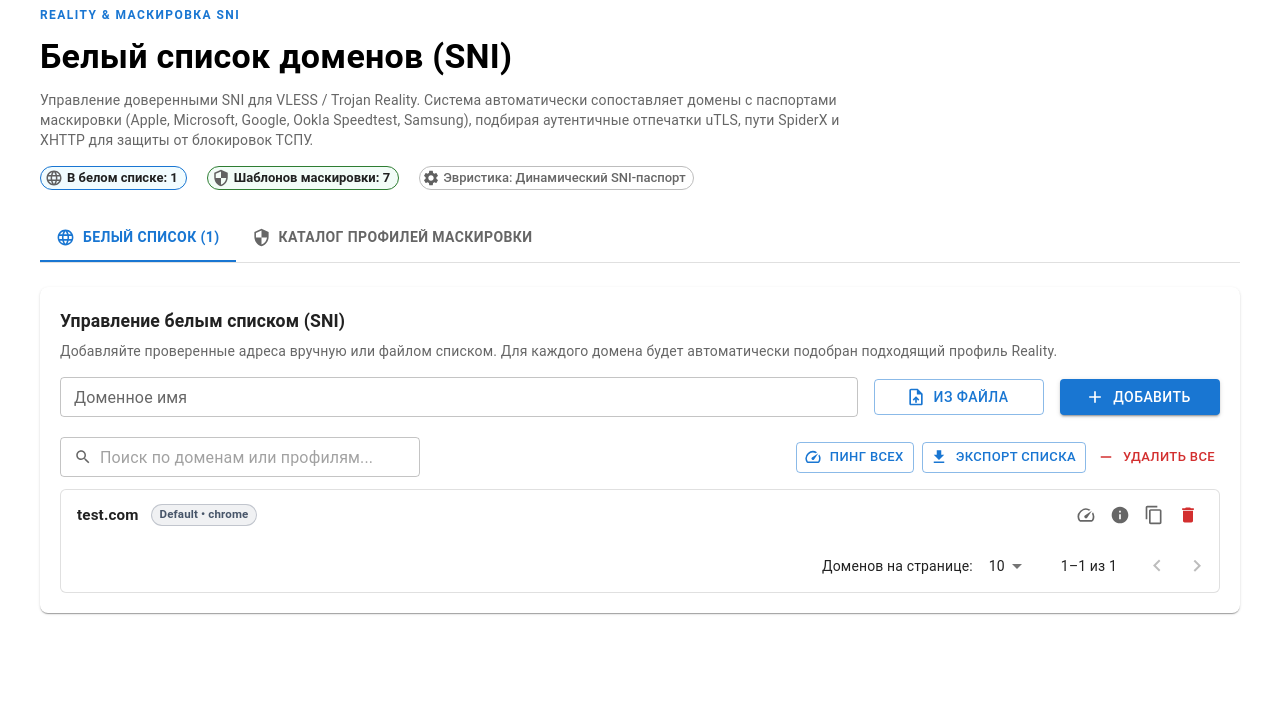
Test: DomainsPage › Удаление всех доменов › должен открывать диалог подтверждения удаления всех
Click the button "Удалить все": [1157, 457] box [1094,442,1220,473]
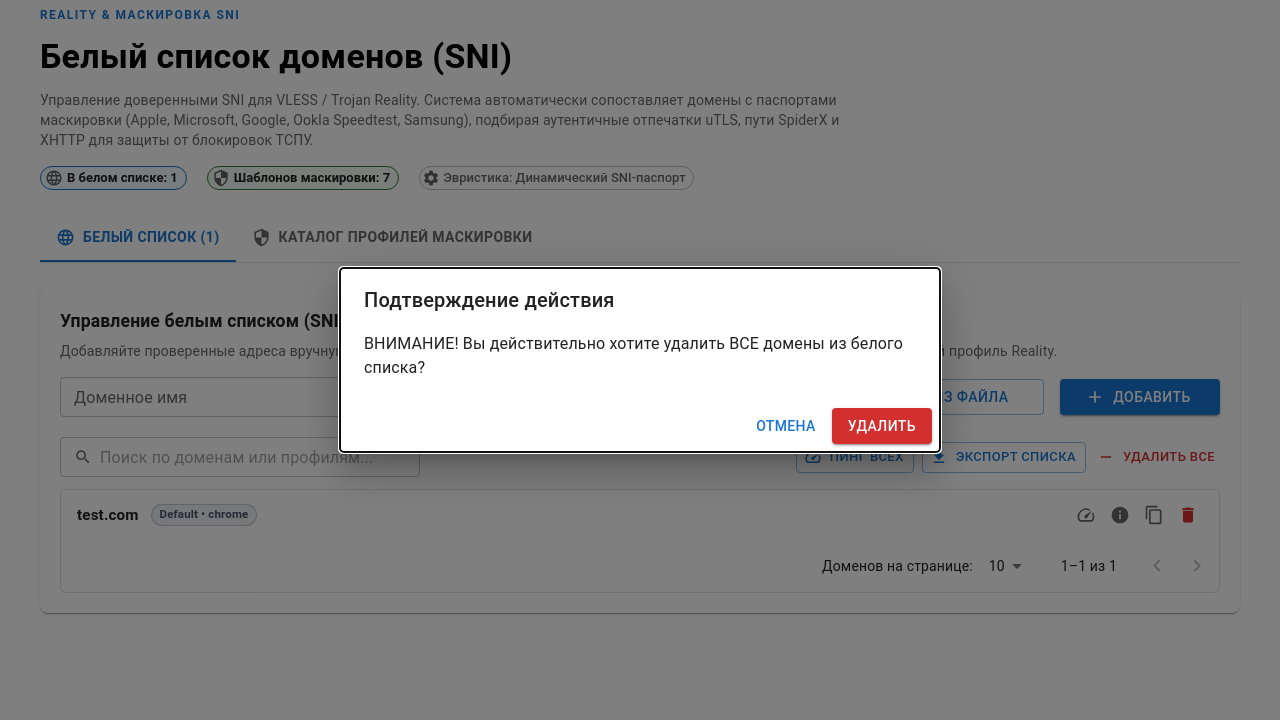
expect the dialog is shown: met, box [340,268,940,452]
